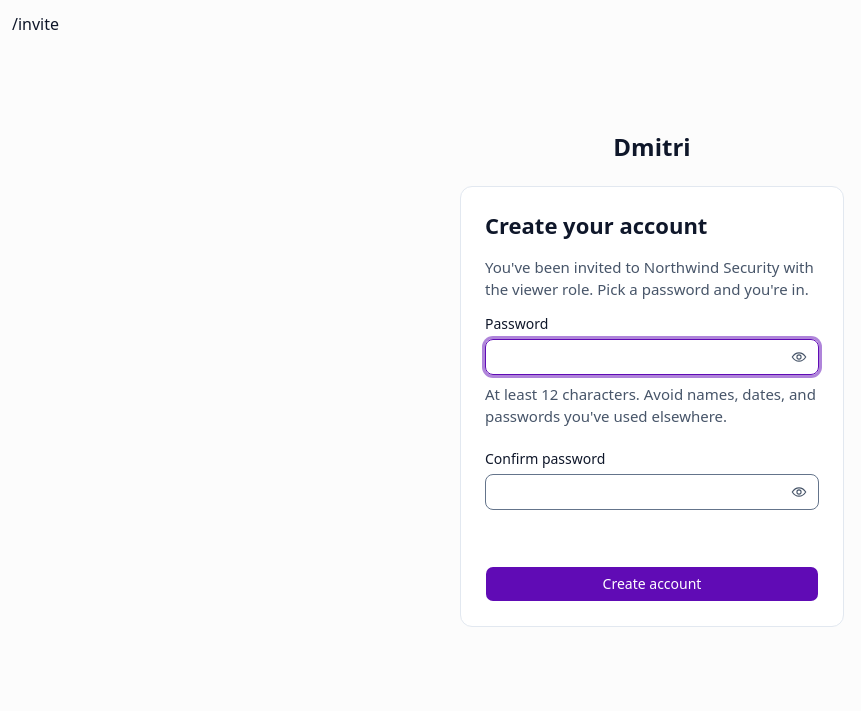
Test: AcceptInvite › keeps the form and shows the policy error beside Password on 400
Type "a-long-enough-password" into the password field labelled "Password".
click(652, 357); type("a-long-enough-password")  # box [485,339,819,375]
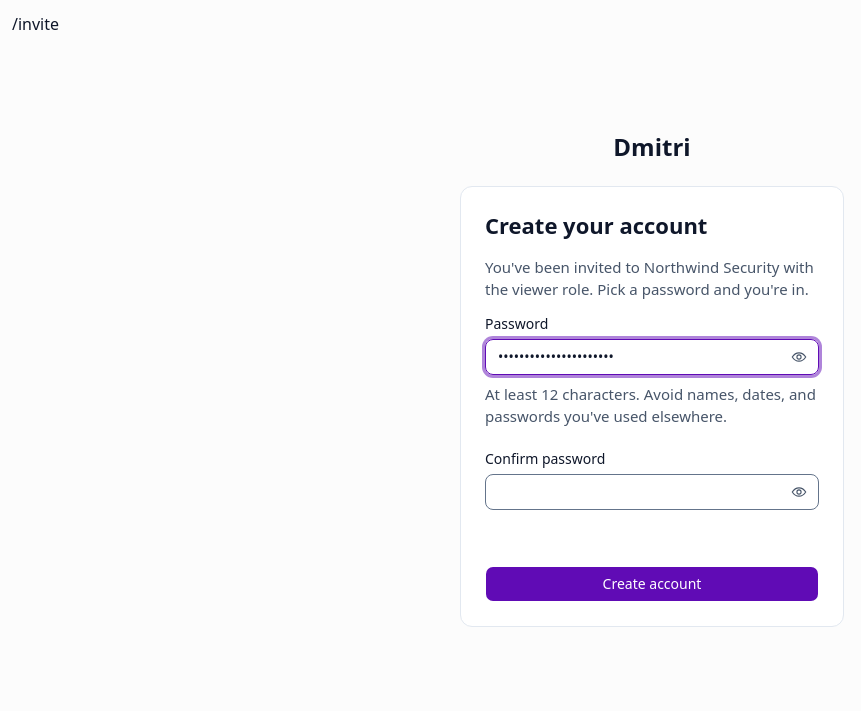
Type "a-long-enough-password" into the password field labelled "Confirm password".
click(652, 492); type("a-long-enough-password")  # box [485,474,819,510]
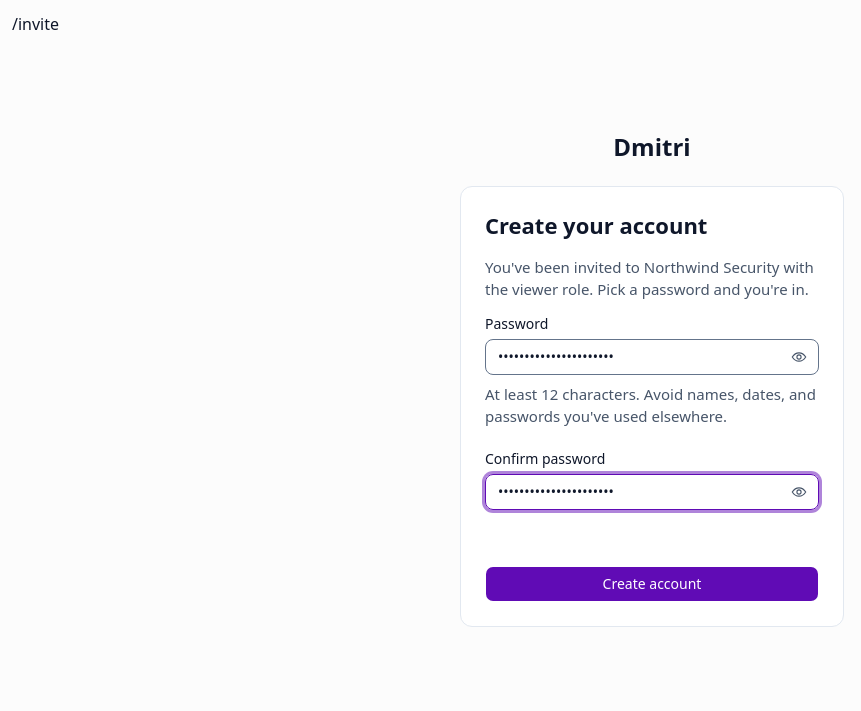
Click the button with test id "invite-submit".
click(652, 584)  # box [485,566,819,602]
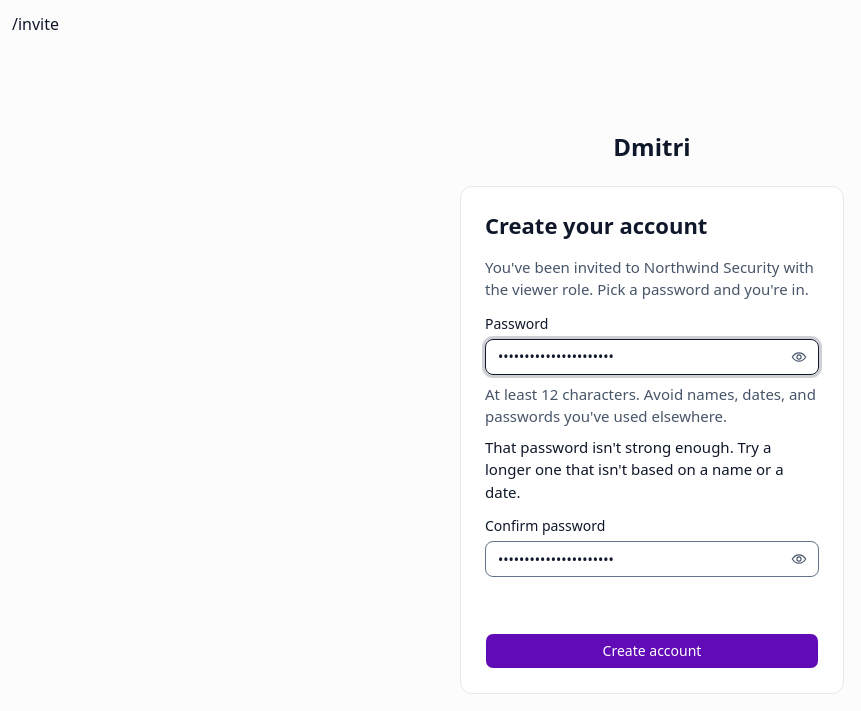
Check: the form with test id "invite-form" is shown, box [485,211,819,669]
Check: the message with test id "invite-password-error" shows "That password isn't strong enough. Try a longer one that isn't based on a name or a date.", box [485,437,784,502]
